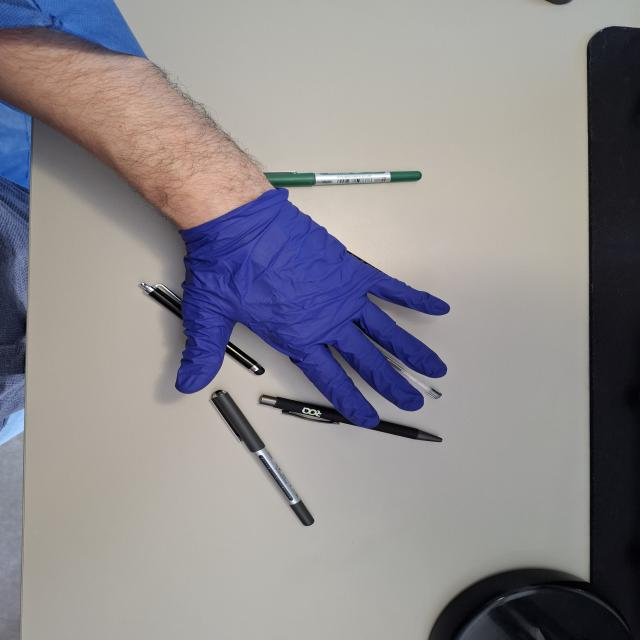glove_on: (173, 187, 452, 430)
